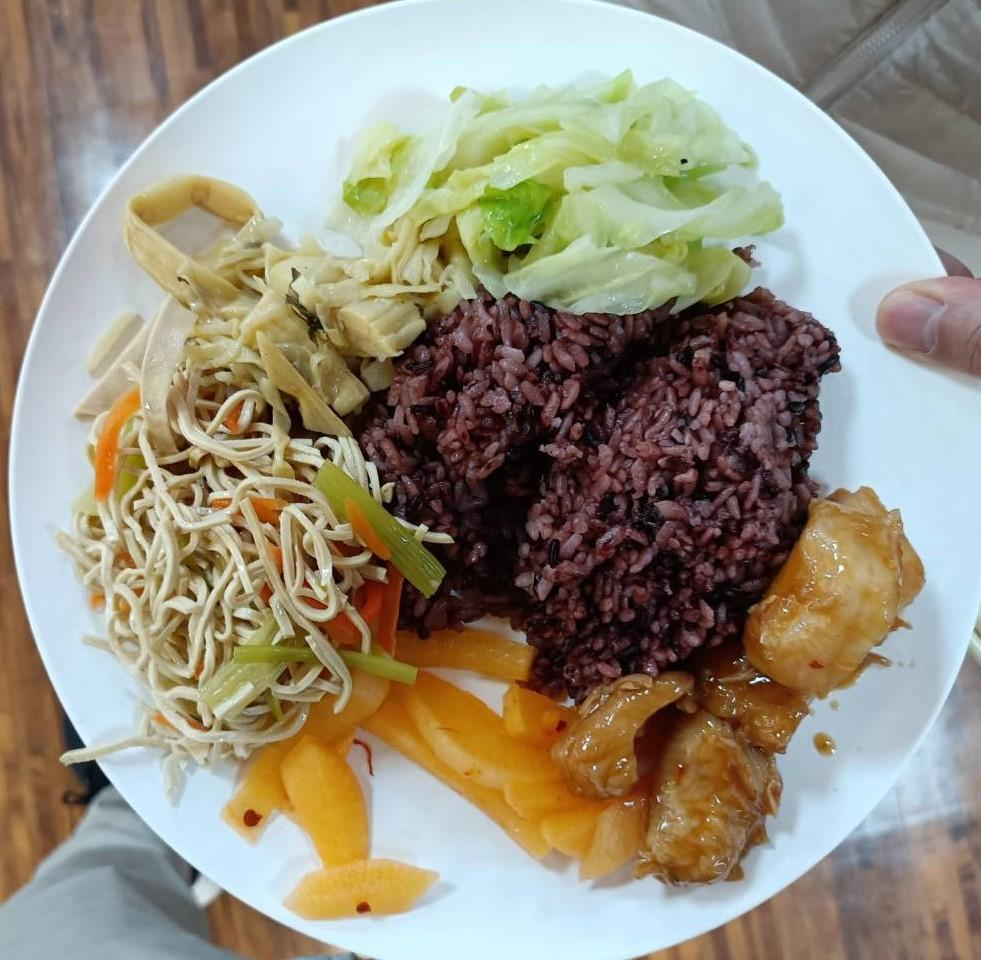big fried chicken leg: (8, 4, 981, 960)
braised fish: (368, 298, 842, 690)
braised fish fillet: (72, 340, 381, 752), (336, 76, 784, 314), (227, 628, 578, 919), (117, 169, 422, 408)
braised pork: (563, 482, 926, 893)
